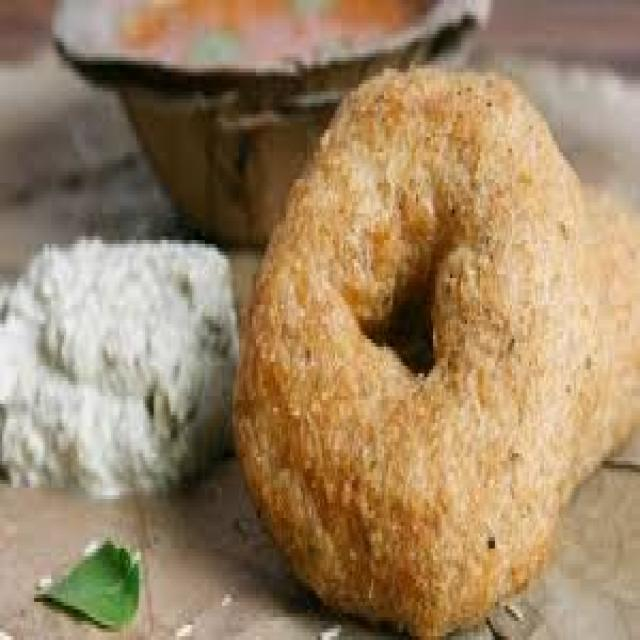MEDU VADA: (228, 56, 591, 636)
